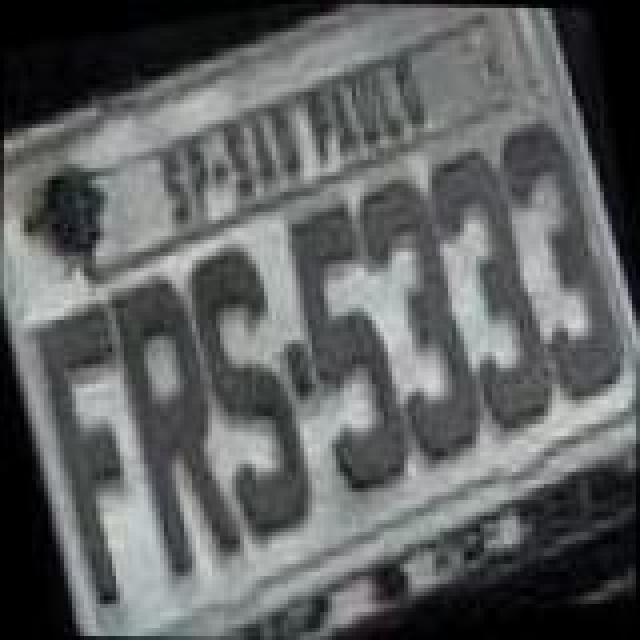3: (414, 136, 562, 440), (346, 170, 494, 470), (488, 114, 636, 414)
5: (282, 192, 422, 500)
F: (26, 300, 162, 612)
R: (100, 270, 248, 586)
S: (178, 240, 322, 544)
